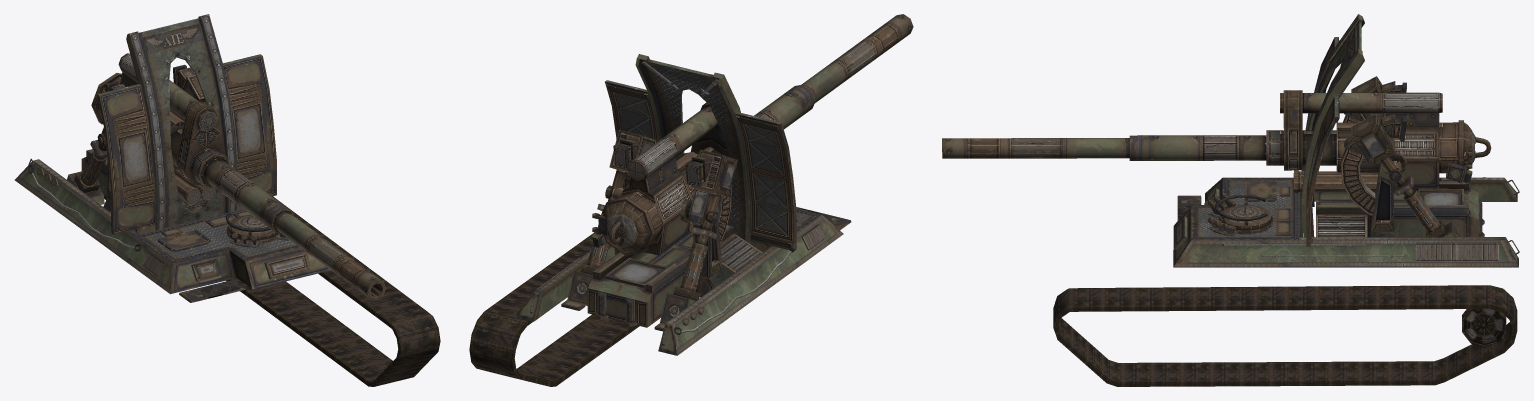
Rendered from artillery_turret.fbx.
3 renders of one model, left to right at view 1: azimuth 30°, elevation 25°; view 2: azimuth 150°, elevation 25°; view 3: azimuth 270°, elevation 25°, orthographic. The views are drawn at different scales.
Visible parts, largest first — view 1: Final_scene3:basalisk_lowpoly:polySurface10282, polySurface12956, polySurface12947, polySurface12948_DUP; view 2: Final_scene3:basalisk_lowpoly:polySurface10282, polySurface12947, polySurface12956, polySurface12948_DUP; view 3: Final_scene3:basalisk_lowpoly:polySurface10282, polySurface12956, polySurface12947, polySurface12948_DUP, polySurface12868.
Boxes of the visible parts, x1=… form: Final_scene3:basalisk_lowpoly:polySurface10282: x1=14, y1=14, x2=330, y2=302; polySurface12956: x1=226, y1=196, x2=440, y2=386; polySurface12947: x1=91, y1=53, x2=293, y2=233; polySurface12948_DUP: x1=274, y1=212, x2=385, y2=299; Final_scene3:basalisk_lowpoly:polySurface10282: x1=514, y1=54, x2=851, y2=355; polySurface12947: x1=592, y1=84, x2=815, y2=255; polySurface12956: x1=469, y1=232, x2=639, y2=386; polySurface12948_DUP: x1=802, y1=14, x2=913, y2=102; Final_scene3:basalisk_lowpoly:polySurface10282: x1=1173, y1=14, x2=1519, y2=267; polySurface12956: x1=1053, y1=285, x2=1517, y2=386; polySurface12947: x1=1129, y1=82, x2=1491, y2=215; polySurface12948_DUP: x1=942, y1=138, x2=1129, y2=158; polySurface12868: x1=1462, y1=309, x2=1506, y2=347.
Bounding box in the file's own units: 150 × 211 × 373.
